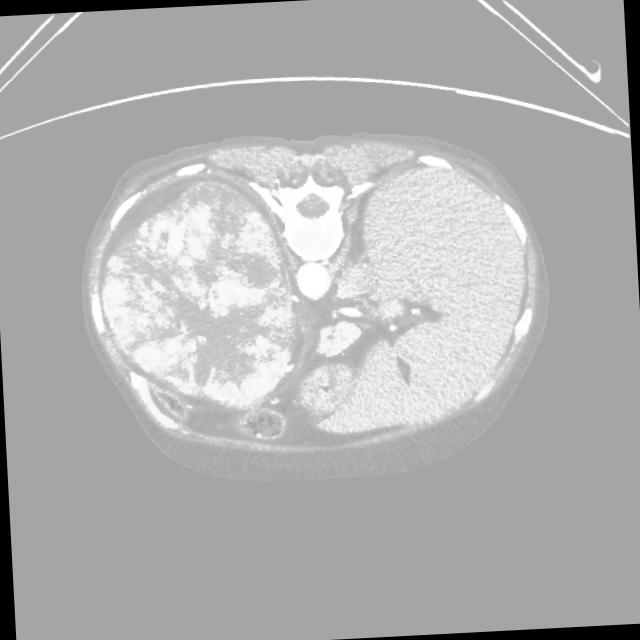TUMOR: (81, 207, 354, 454)
